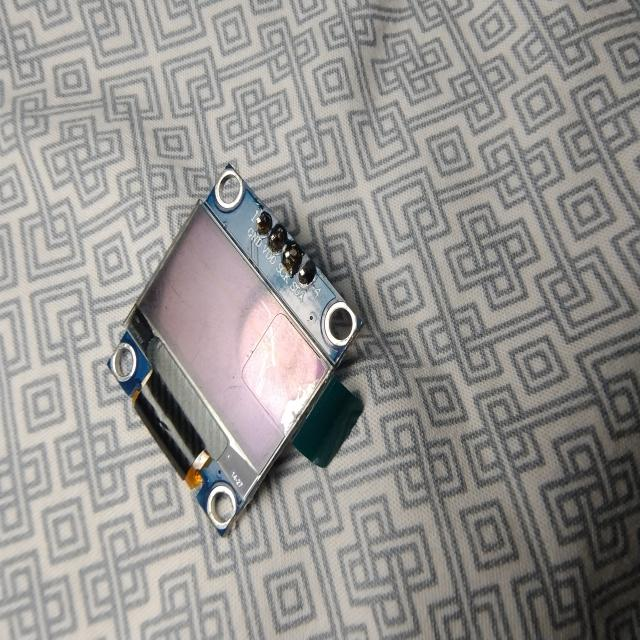oled: (101, 154, 386, 546)
